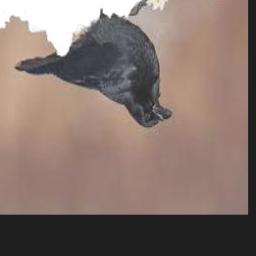Crow: (15, 0, 174, 128)
